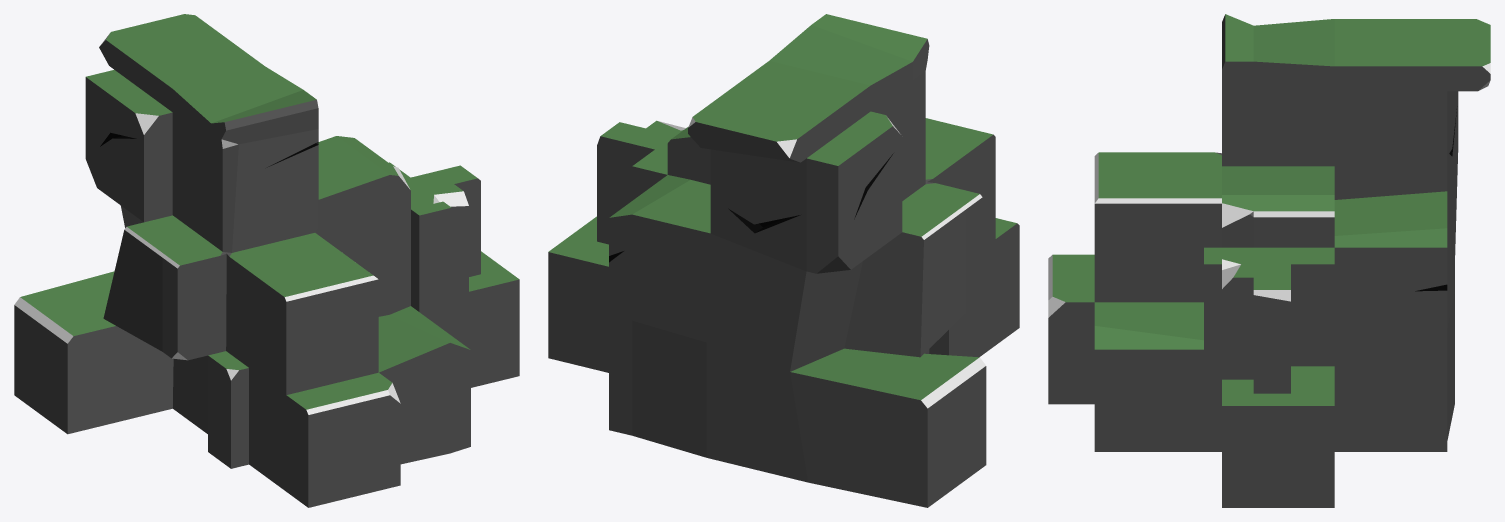
The model's file is Rock_v2.fbx.
3 renders of one model, left to right at view 1: azimuth 30°, elevation 25°; view 2: azimuth 150°, elevation 25°; view 3: azimuth 270°, elevation 25°, orthographic. The views are drawn at different scales.
Visible parts, largest first — view 1: Cube; view 2: Cube; view 3: Cube.
Boxes of the visible parts, bbox=[...] form: Cube: bbox=[14, 14, 519, 507]; Cube: bbox=[548, 14, 1019, 507]; Cube: bbox=[1048, 14, 1490, 507].
Bounding box in the file's own units: 432 × 337 × 393.
